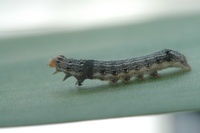insect: (49, 49, 190, 85)
